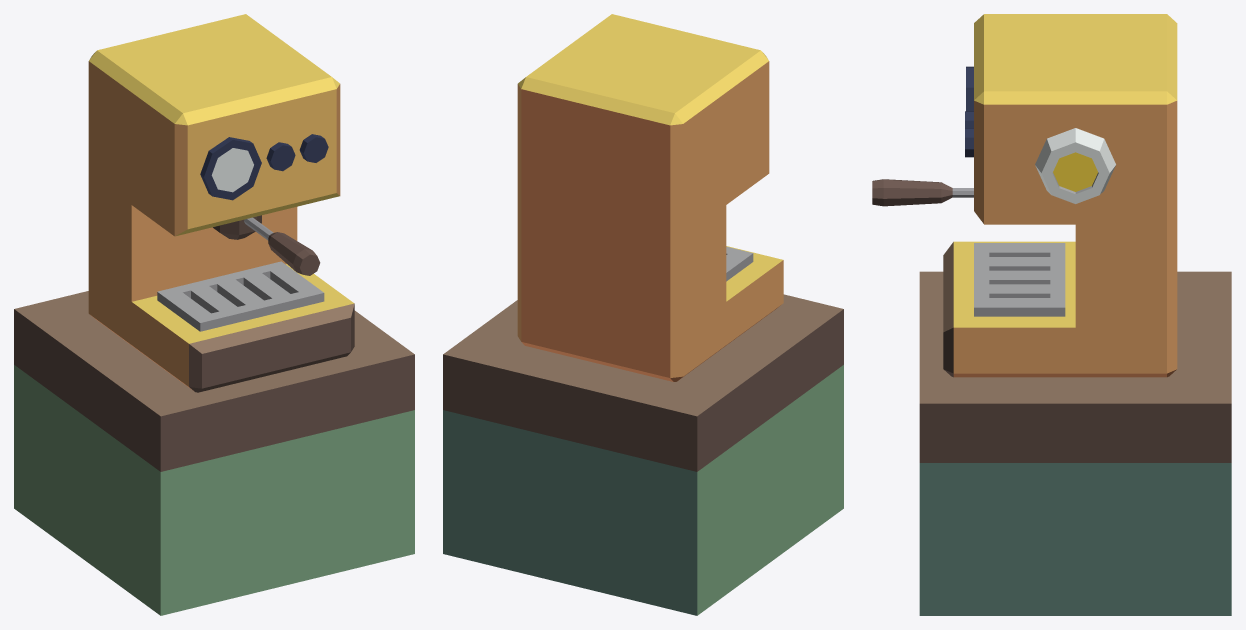
File: CoffeeMachine.fbx
3 renders of one model, left to right at view 1: azimuth 30°, elevation 25°; view 2: azimuth 150°, elevation 25°; view 3: azimuth 270°, elevation 25°, orthographic. The views are drawn at different scales.
Visible parts, largest first — view 1: CoffeeMachine; view 2: CoffeeMachine; view 3: CoffeeMachine.
Boxes of the visible parts, x1,y1,x2,y2 form: CoffeeMachine: (14, 14, 414, 615); CoffeeMachine: (443, 14, 843, 615); CoffeeMachine: (872, 14, 1231, 615).
Bounding box in the file's own units: 60.45 × 106 × 69.6.
